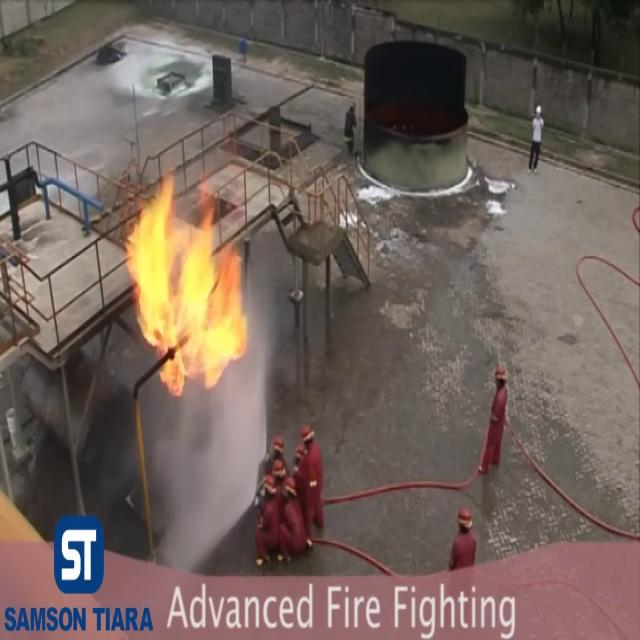Fire: (119, 173, 255, 394)
